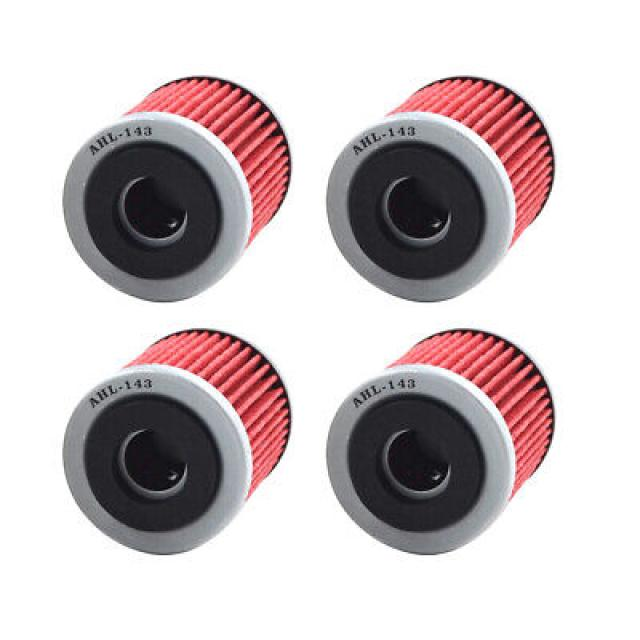oil_filter: (50, 320, 302, 560), (319, 318, 570, 558), (321, 59, 560, 308), (62, 62, 301, 308)
